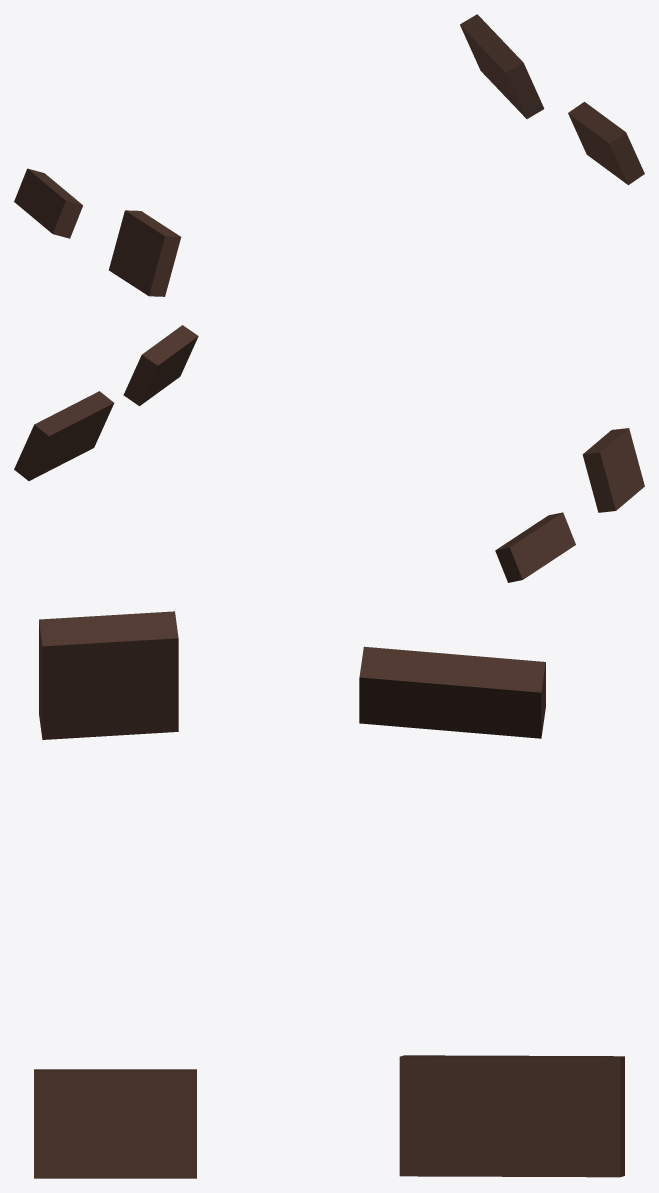
The model's file is lava_wash_short_detail1.glb.
3 views of the same model, one above another, from view 1: azimuth 30°, elevation 25°; view 2: azimuth 150°, elevation 25°; view 3: azimuth 270°, elevation 25° (orthographic). The views are drawn at different scales.
Parts seen in each view (by area): view 1: lava_wash_short_detail1; view 2: lava_wash_short_detail1; view 3: lava_wash_short_detail1.
Boxes of the visible parts, left/top/right/bottom form: lava_wash_short_detail1: left=14, top=14, right=644, bottom=296; lava_wash_short_detail1: left=14, top=325, right=644, bottom=582; lava_wash_short_detail1: left=34, top=611, right=624, bottom=1178.
Size of the model in its own units: 34.12 by 4.15 by 17.53.
